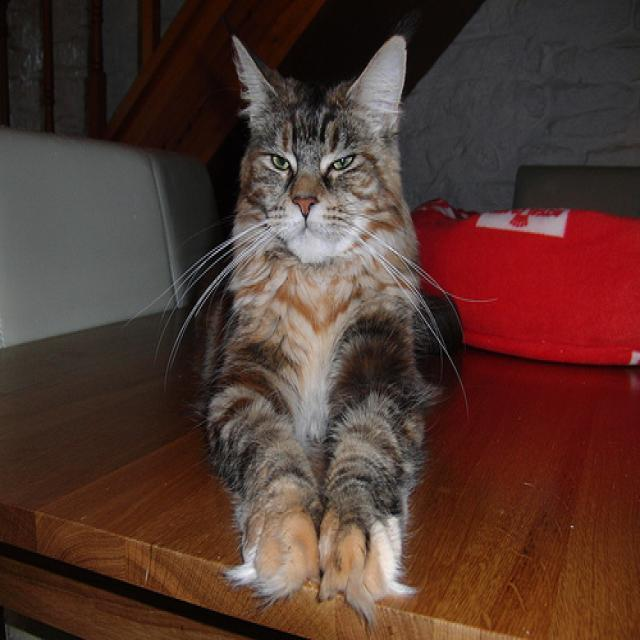Maine_Coon: (230, 34, 406, 260)
